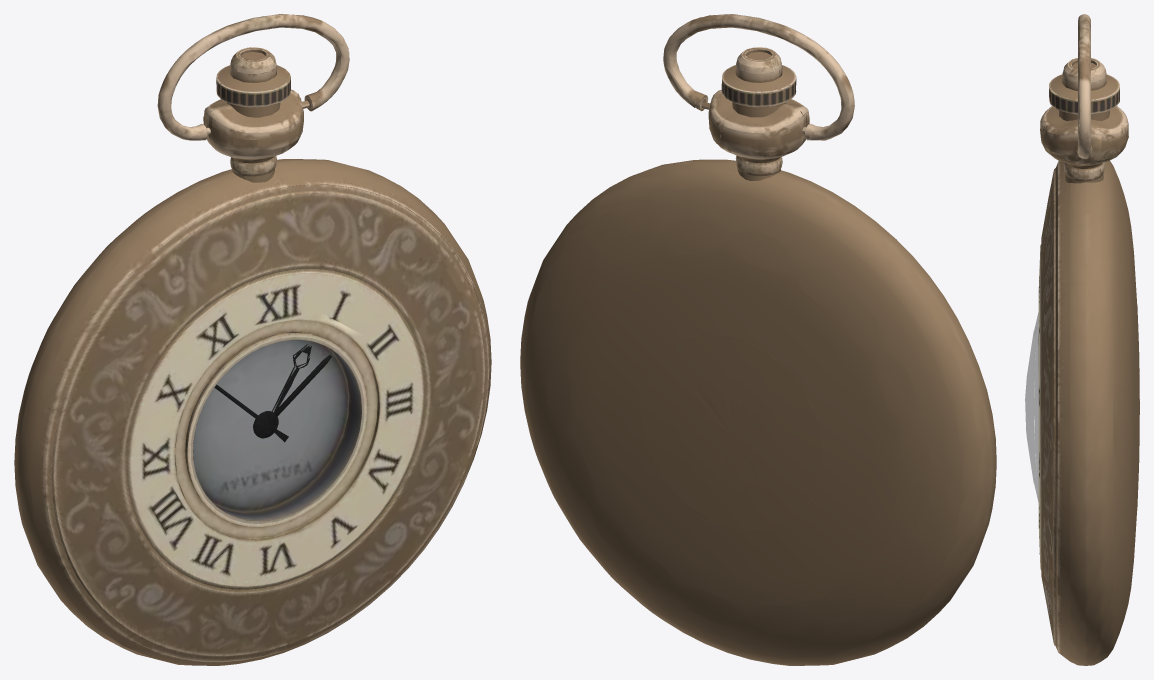
File: vintage_pocket_watch.glb
3 views of the same model, side by side, from view 1: azimuth 30°, elevation 25°; view 2: azimuth 150°, elevation 25°; view 3: azimuth 270°, elevation 25° (orthographic). The views are drawn at different scales.
Parts seen in each view (by area): view 1: vintage_pocket_watch; view 2: vintage_pocket_watch; view 3: vintage_pocket_watch.
Boxes of the visible parts, x1=… form: vintage_pocket_watch: x1=14, y1=14, x2=491, y2=665; vintage_pocket_watch: x1=520, y1=14, x2=996, y2=665; vintage_pocket_watch: x1=1025, y1=14, x2=1139, y2=665.
Size of the model in its own units: 0.0613 by 0.0799 by 0.0136.
Materials: 3 (1 with a texture image).
